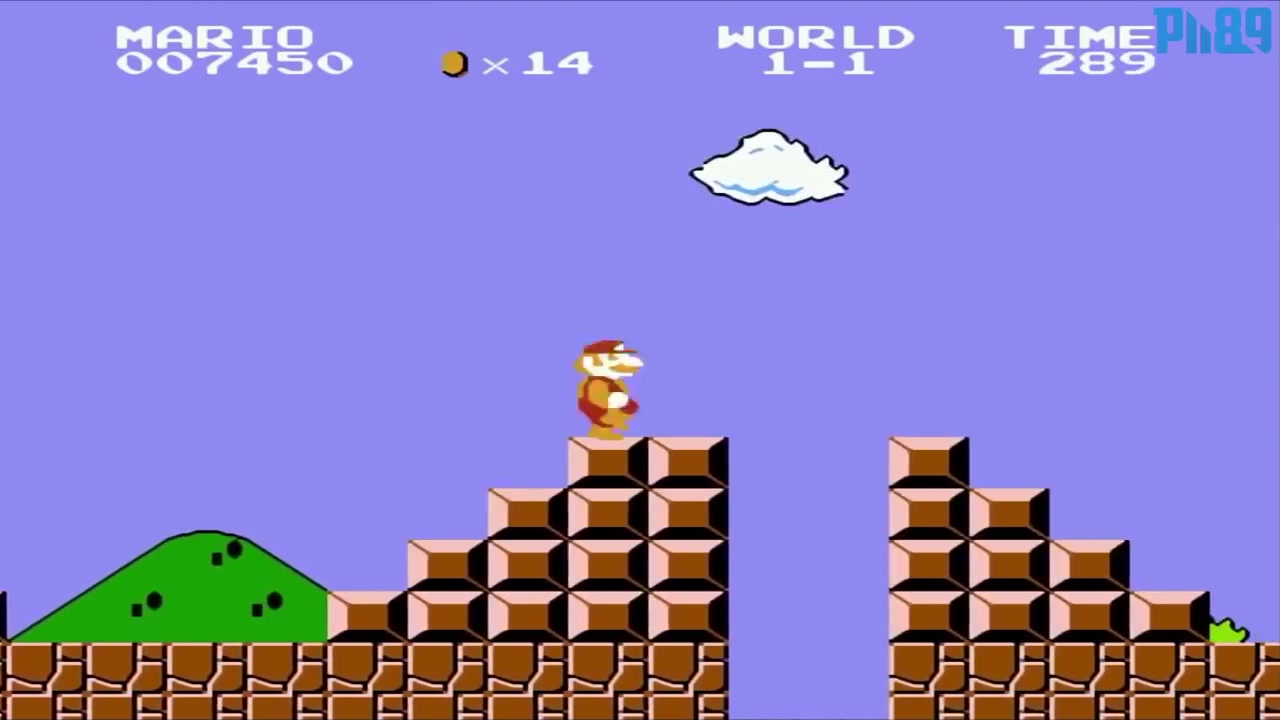mario: (553, 327, 658, 440)
